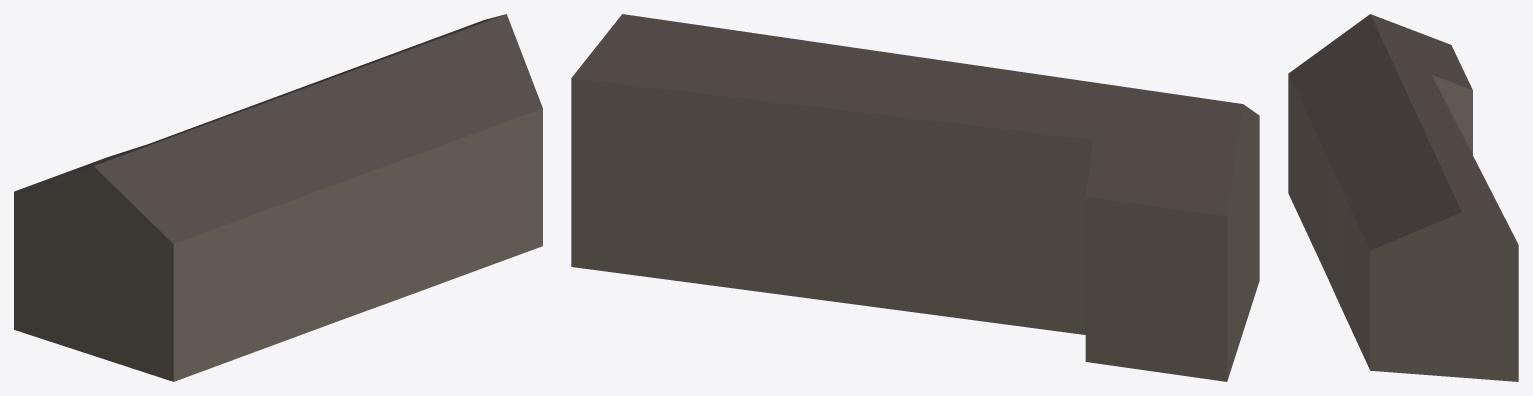
3 renders of one model, left to right at view 1: azimuth 30°, elevation 25°; view 2: azimuth 150°, elevation 25°; view 3: azimuth 270°, elevation 25°, orthographic. The views are drawn at different scales.
Visible parts, largest first — view 1: HP-w682223767; view 2: HP-w682223767; view 3: HP-w682223767.
Part boxes in pixels (<box>): HP-w682223767: <box>14,14,542,381</box>; HP-w682223767: <box>571,14,1259,381</box>; HP-w682223767: <box>1288,14,1518,381</box>.
Size of the model in its own units: 34.8 by 12.4 by 15.62.
